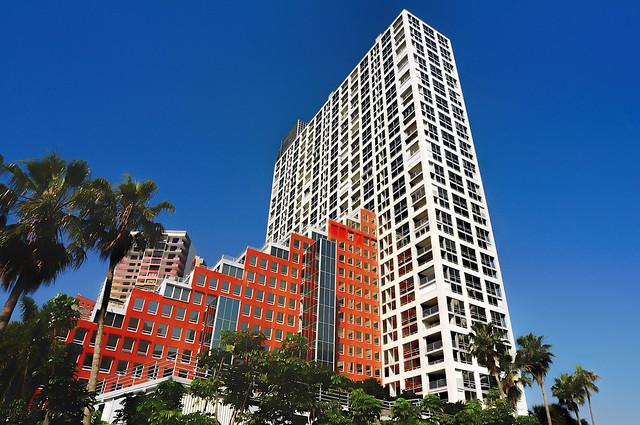building: (248, 7, 534, 419)
